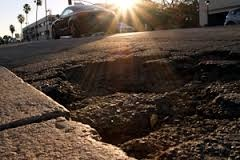pothole: (28, 40, 240, 87), (70, 88, 240, 124), (90, 122, 239, 160)
